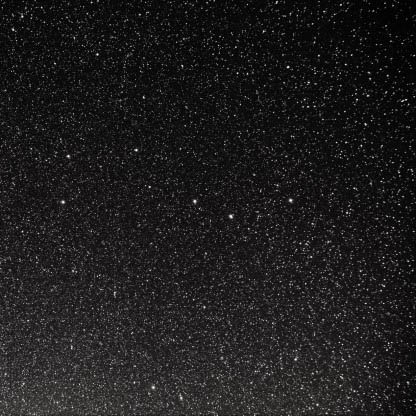Ursa Major: (180, 187, 205, 215), (219, 205, 240, 228), (135, 175, 156, 196), (59, 145, 79, 167), (51, 194, 74, 213), (280, 192, 303, 211), (125, 138, 144, 160)
